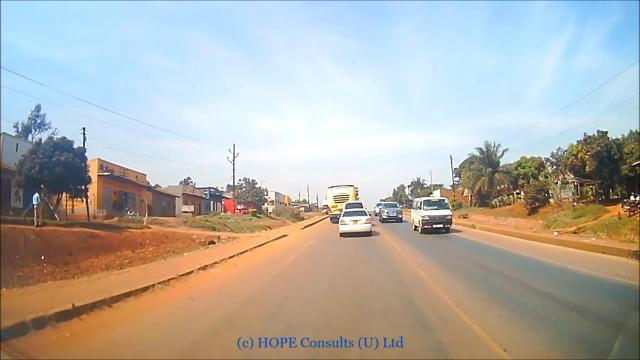car: (338, 202, 373, 237)
truck: (324, 184, 361, 223)
van: (412, 192, 459, 237), (378, 201, 404, 223)
